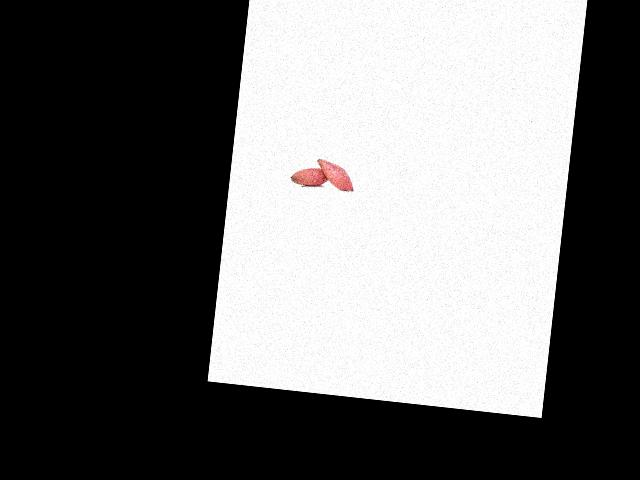sweet_potato: (288, 163, 332, 188)
